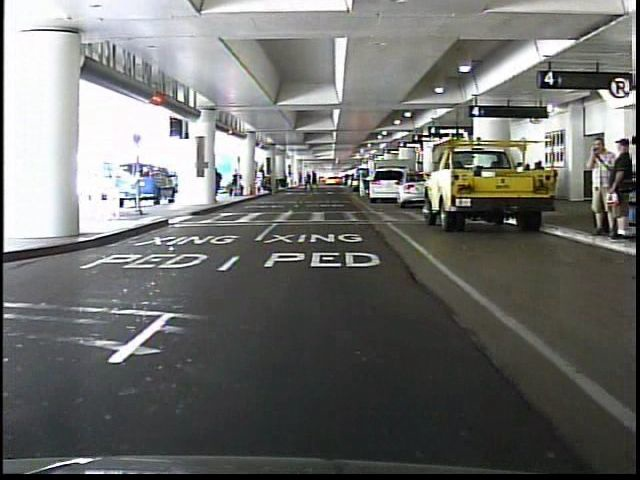person: (582, 135, 612, 236)
